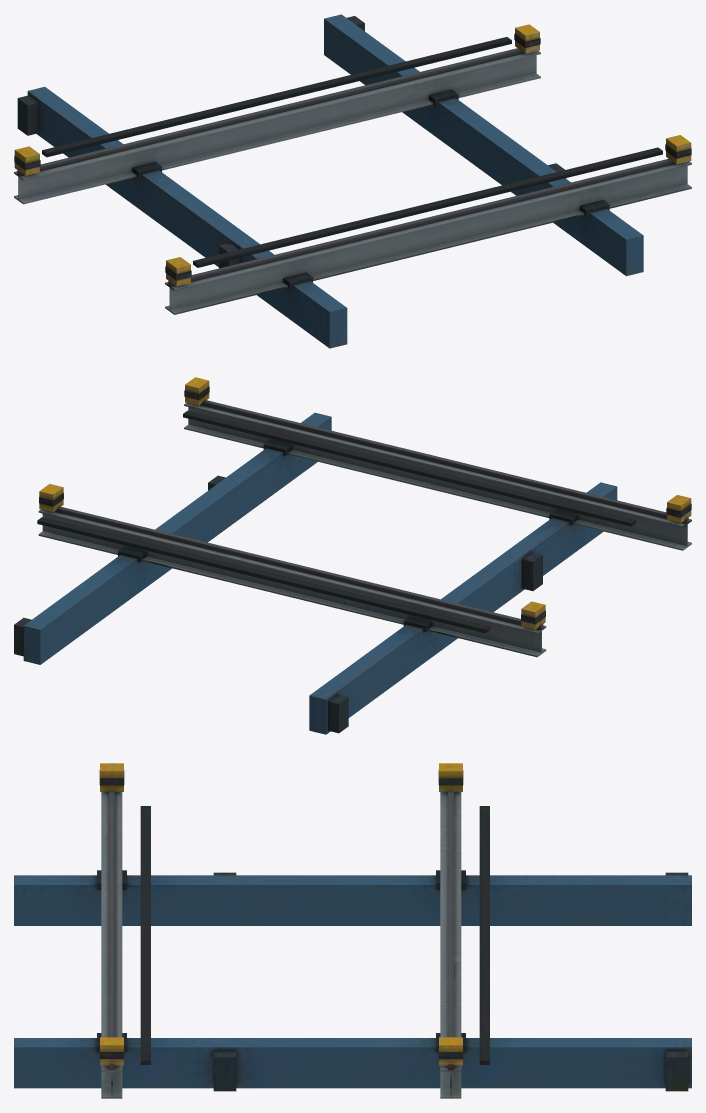
File: deck_track_v5.glb
3 views of the same model, one above another, from view 1: azimuth 30°, elevation 25°; view 2: azimuth 150°, elevation 25°; view 3: azimuth 270°, elevation 25° (orthographic). The views are drawn at different scales.
Parts seen in each view (by area): view 1: body; view 2: body; view 3: body.
Part boxes in pixels (bbox=[...]): body: bbox=[14, 14, 691, 348]; body: bbox=[14, 377, 691, 734]; body: bbox=[14, 763, 691, 1098].
Size of the model in its own units: 8.9 by 1.32 by 9.
Materials: 1 (1 with a texture image).
